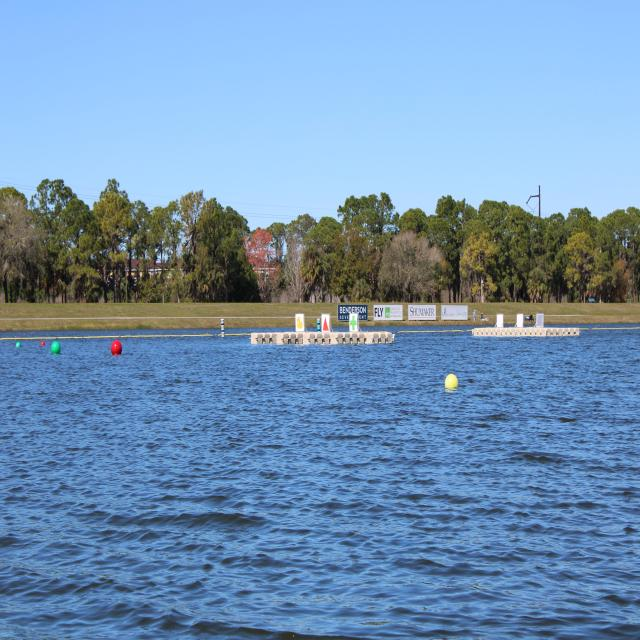blue-cross: (348, 310, 358, 332)
green-buoy: (53, 343, 63, 356)
red-buoy: (114, 342, 125, 358)
red-dot: (321, 314, 332, 333)
yellow-buoy: (444, 373, 457, 390)
yellow-duck: (296, 315, 304, 336)
